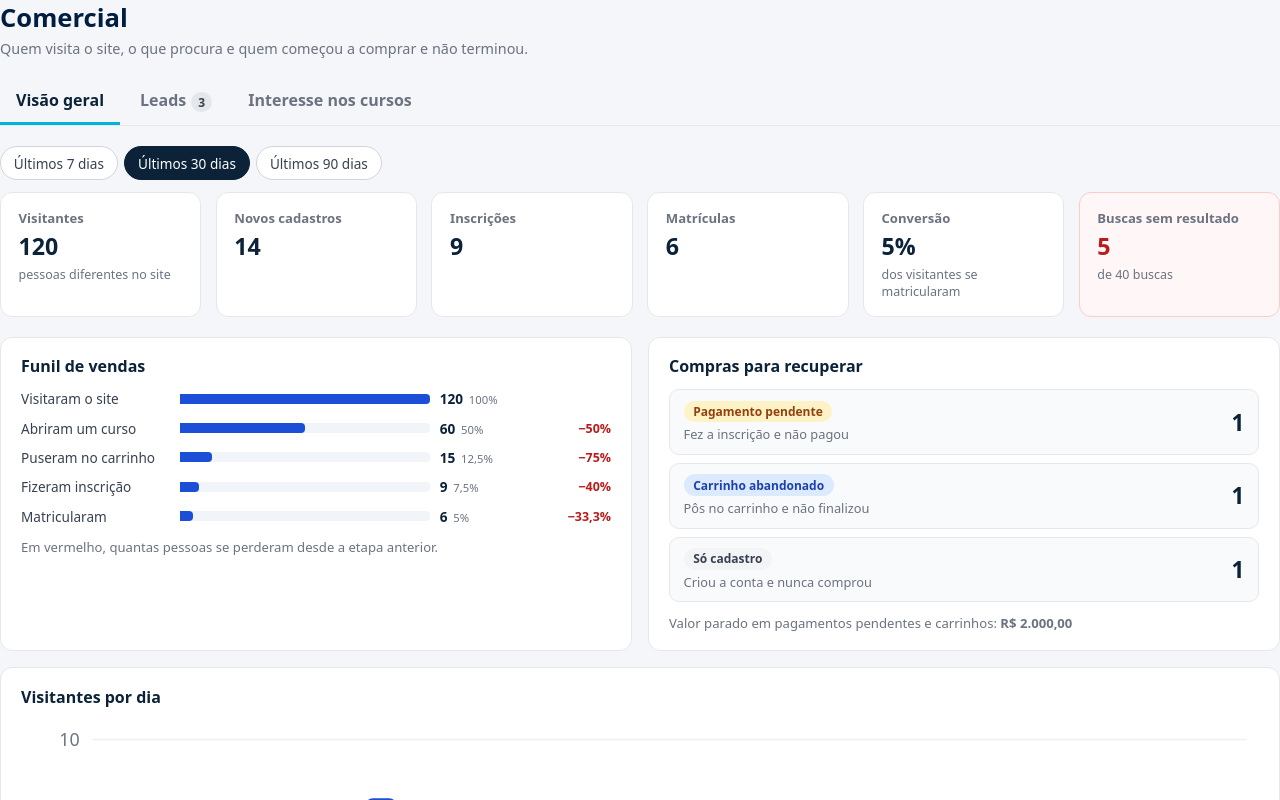
Test case: atalho de uma etapa abre os leads já filtrados
This screenshot has width=1280, height=800.
Step 1. Click the button "Carrinho abandonado" → coordinates (759, 485), box [669,463,1259,529]
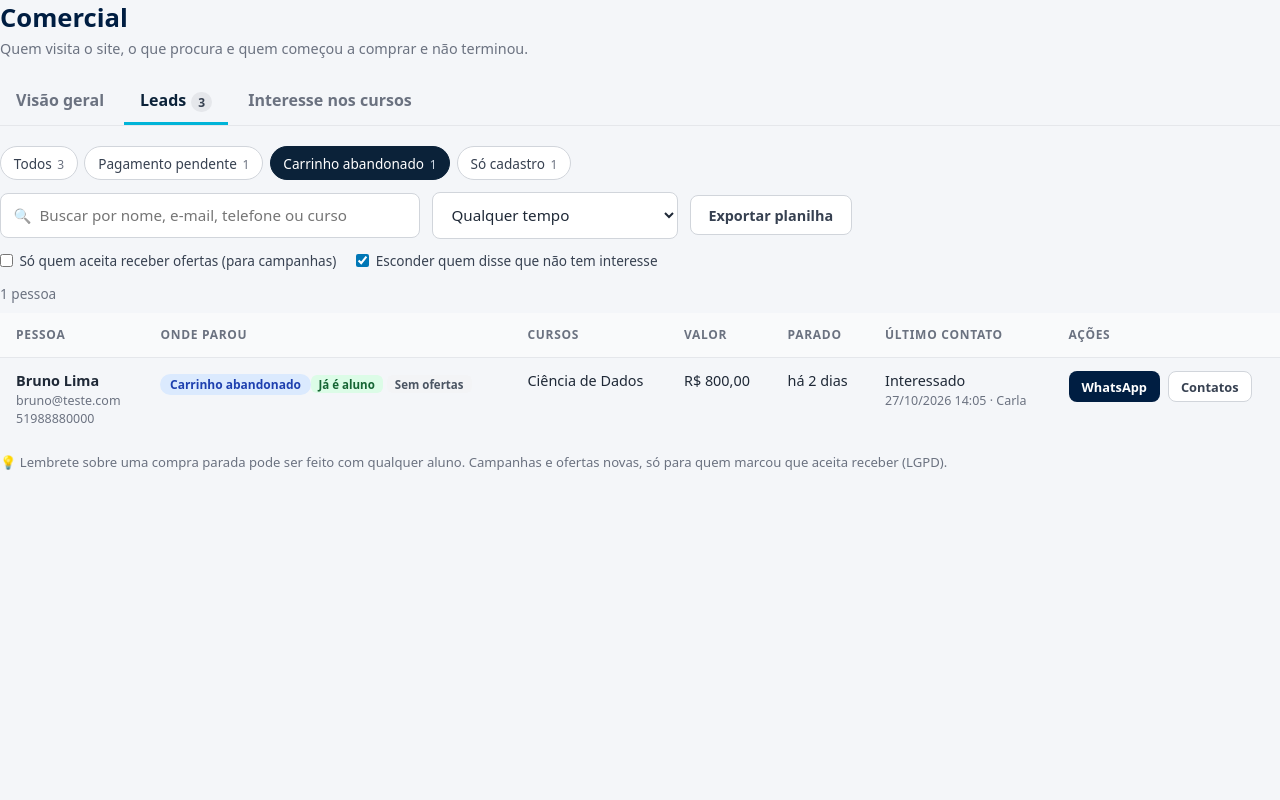
Now the text "Bruno Lima" is shown, box [16,371,99,390]
